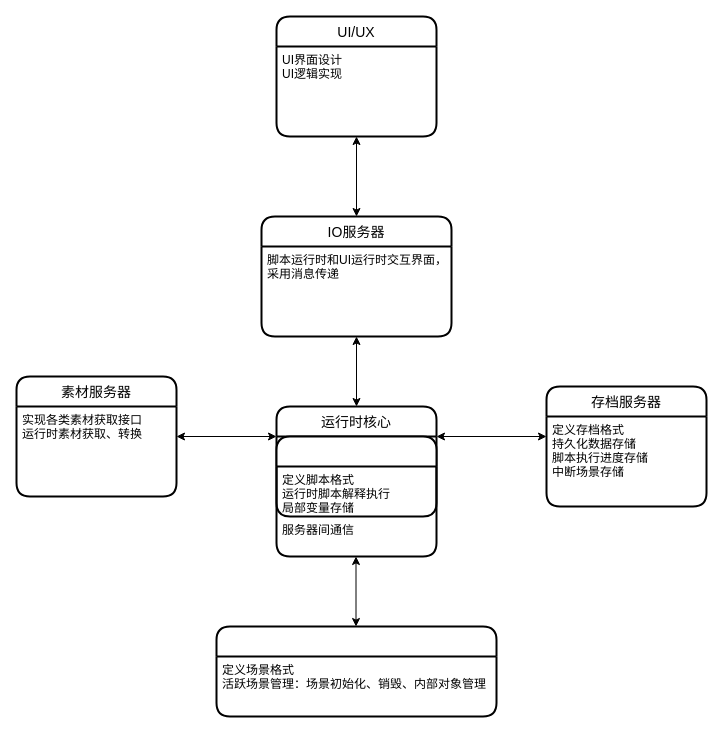
The diagram is 723 pixels wide and 733 high, and some of its shapes have lost their labels. The box of each missing label's shape, as (x1, y1, x2, y2) in pixels:
脚本解释器: (275, 435, 437, 517)
舞台: (215, 625, 497, 717)
